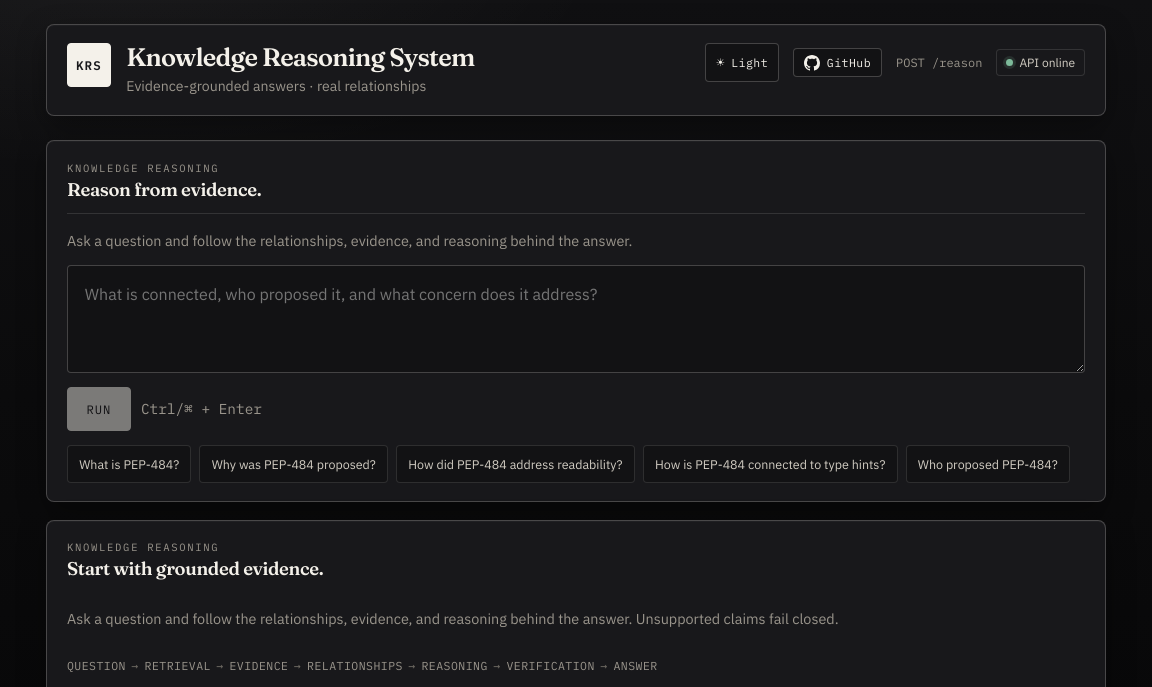
Test: Knowledge Reasoning Web UI › handles validation errors without leaking internals
The width and height of the screenshot is (1152, 687).
Replace the text in the text box named "Reasoning query" with "What is PEP-484?" at (576, 319), box [67,265,1085,373]
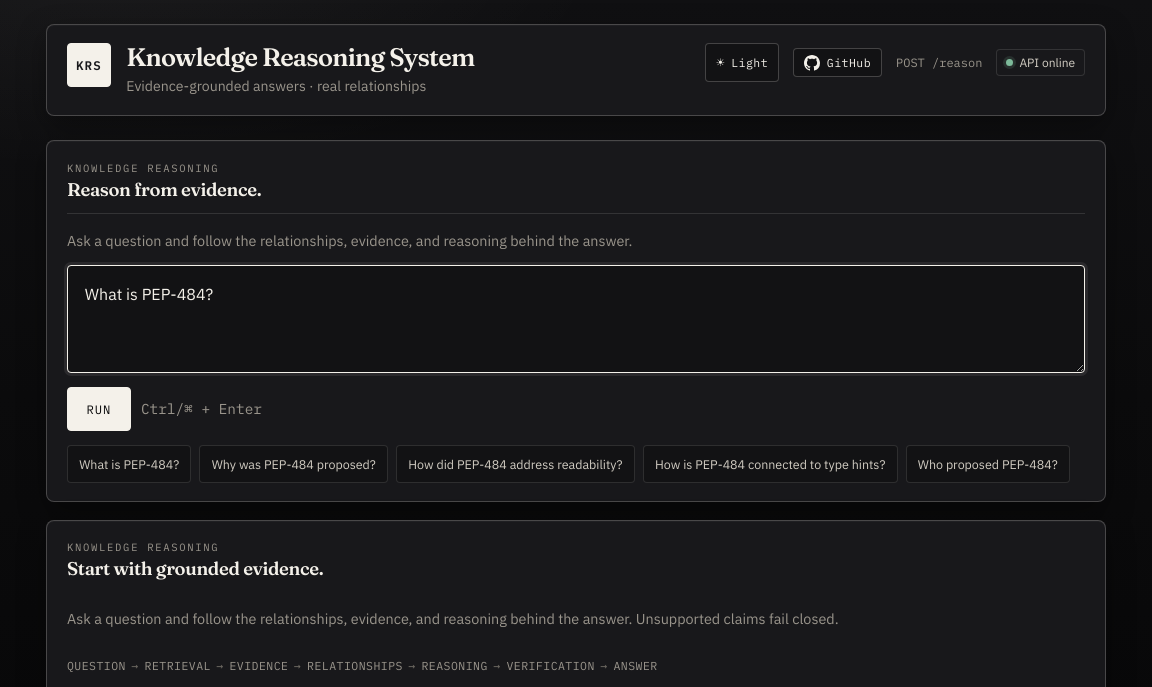
Click the button "Run".
click(99, 409)  # box [67,387,131,431]
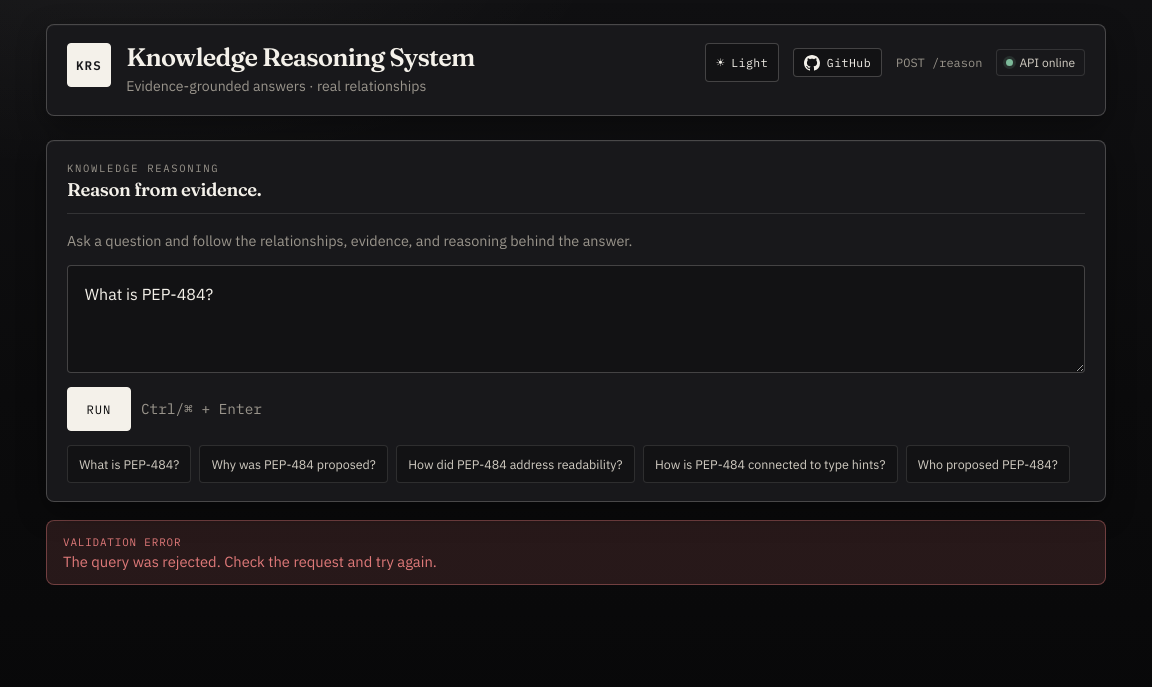
Expected: the message "Validation error The query was rejected. Check the request and try again." is shown, [46,520,1106,585]
Expected: the text "Validation error" is shown, [63,535,181,549]
